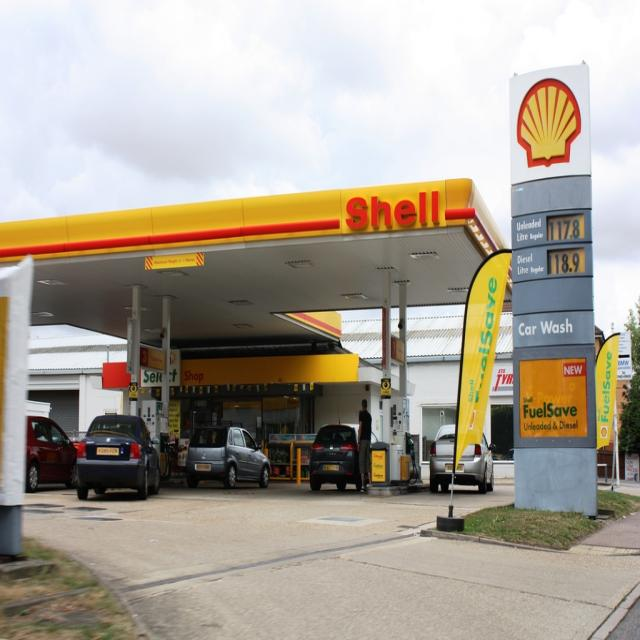shell: (515, 75, 585, 172)
